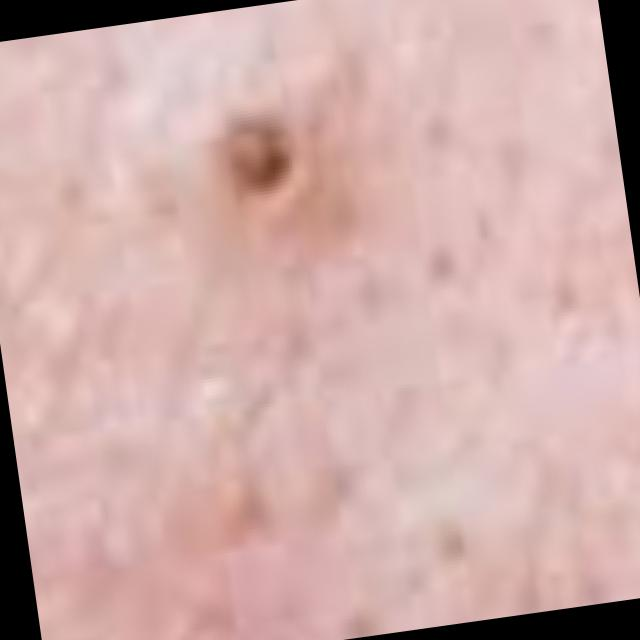blackhead: (226, 122, 283, 188)
